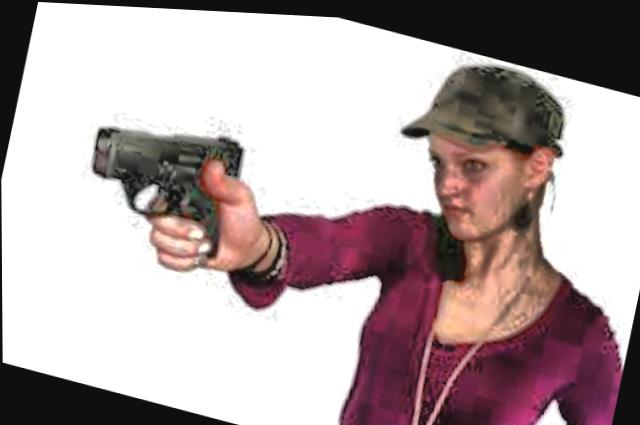pistol: (66, 88, 249, 273)
